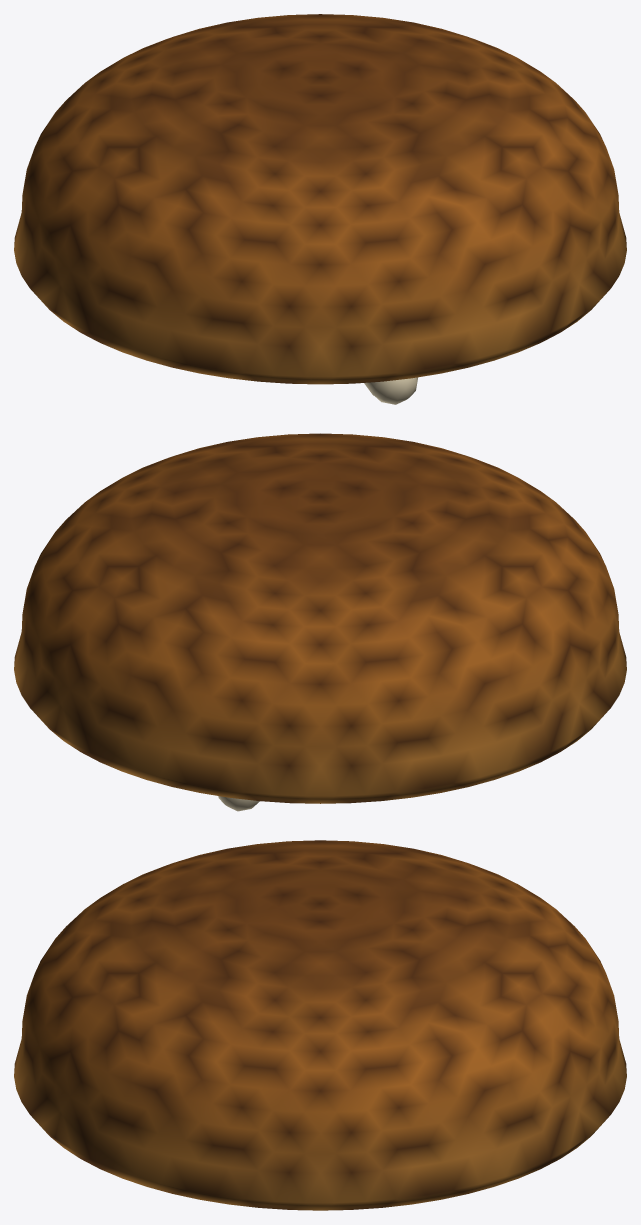
Rendered from Arcella.fbx.
3 views of the same model, one above another, from view 1: azimuth 30°, elevation 25°; view 2: azimuth 150°, elevation 25°; view 3: azimuth 270°, elevation 25° (orthographic).
Parts seen in each view (by area): view 1: Arcella; view 2: Arcella; view 3: Arcella.
Part boxes in pixels (x1,y1,x2,y2): Arcella: (14,14,626,404); Arcella: (14,433,626,811); Arcella: (14,840,626,1210).
Size of the model in its own units: 1.55 by 0.7311 by 1.55.
